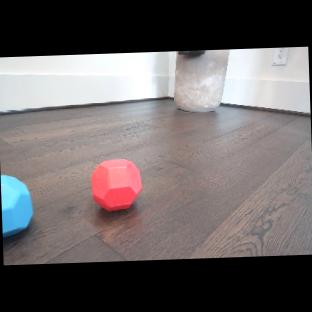V5_BLUE: (90, 158, 143, 213), (1, 175, 34, 239)
